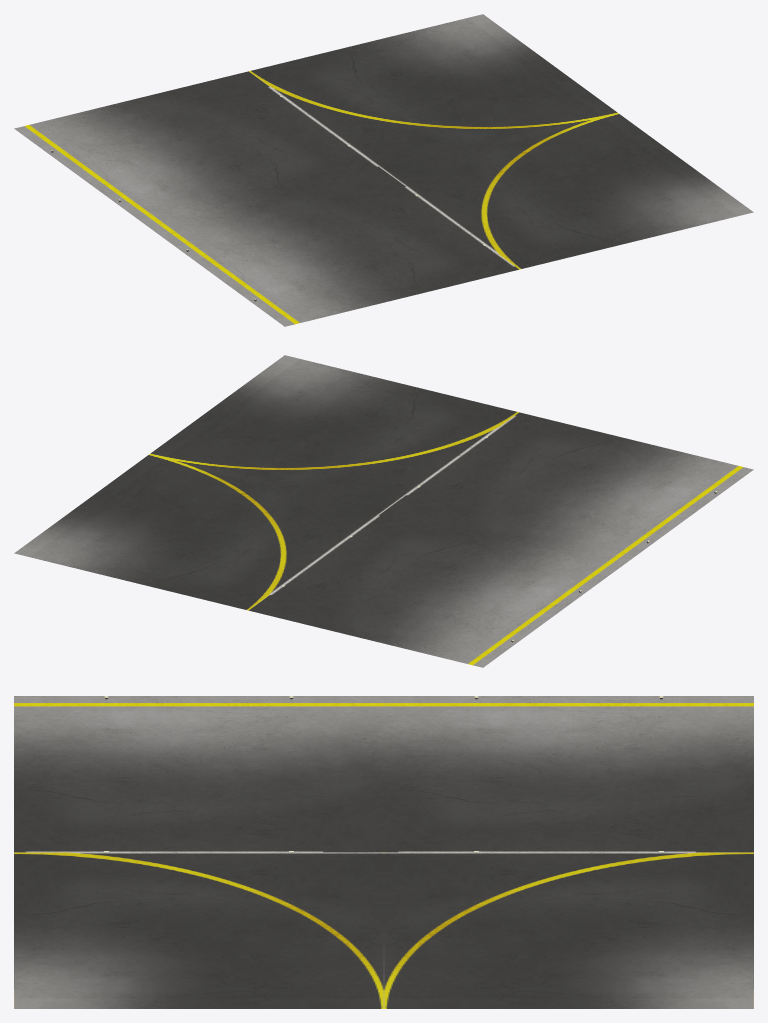
The model's file is air_road_4x4_b.FBX.
3 renders of one model, top to bottom at view 1: azimuth 30°, elevation 25°; view 2: azimuth 150°, elevation 25°; view 3: azimuth 270°, elevation 25°, orthographic. The views are drawn at different scales.
Parts seen in each view (by area): view 1: air_road_4x4_a; view 2: air_road_4x4_a; view 3: air_road_4x4_a.
Part boxes in pixels (x1=…): air_road_4x4_a: x1=14, y1=14, x2=753, y2=326; air_road_4x4_a: x1=14, y1=355, x2=753, y2=667; air_road_4x4_a: x1=14, y1=696, x2=753, y2=1008.
Size of the model in its own units: 80 by 0.3185 by 80.
